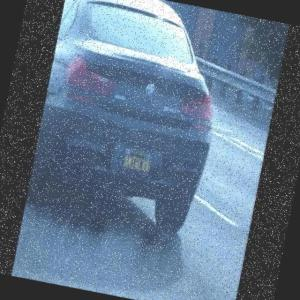Plate: (118, 142, 158, 180)
